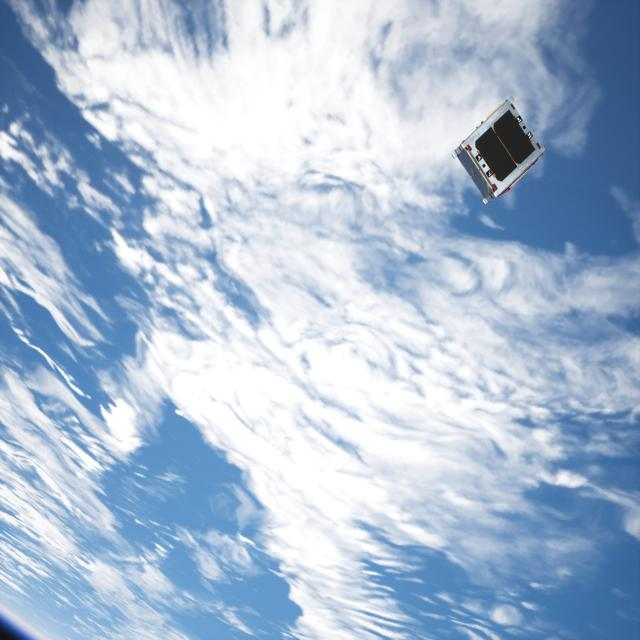medium_debris: (458, 96, 548, 206)
